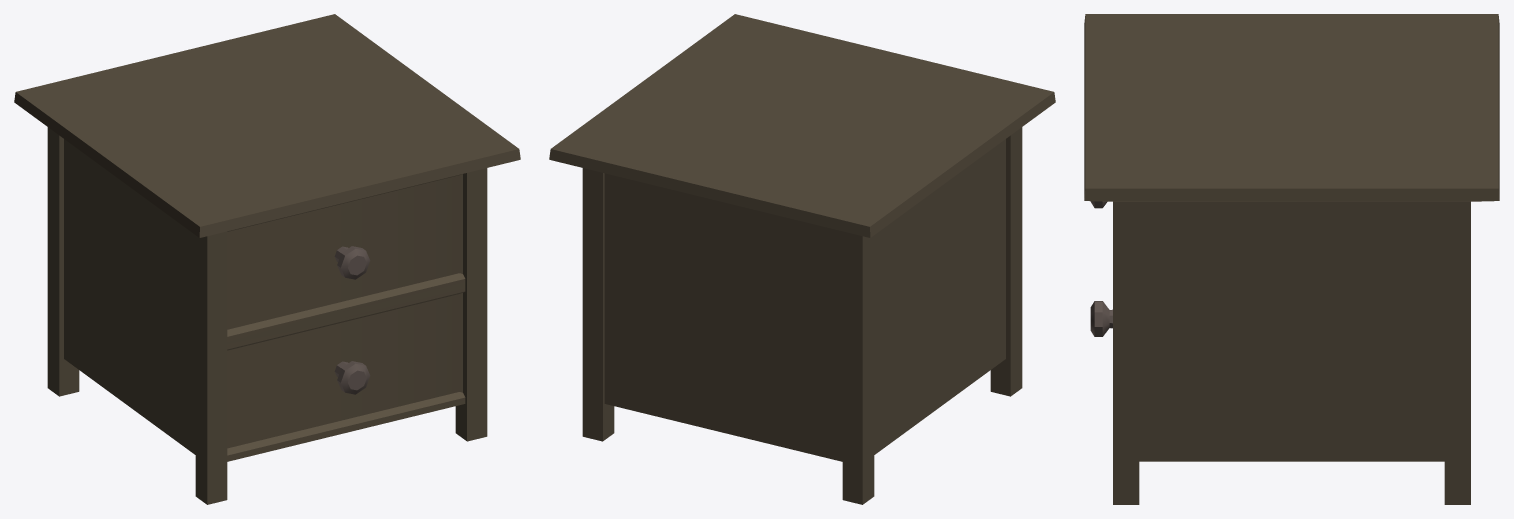
The model's file is quaternius-house-interior-night-stand-3.glb.
3 renders of one model, left to right at view 1: azimuth 30°, elevation 25°; view 2: azimuth 150°, elevation 25°; view 3: azimuth 270°, elevation 25°, orthographic. The views are drawn at different scales.
Visible parts, largest first — view 1: NightStand_3; view 2: NightStand_3; view 3: NightStand_3.
Part boxes in pixels (<box>): NightStand_3: <box>14,14,520,504</box>; NightStand_3: <box>549,14,1055,504</box>; NightStand_3: <box>1084,14,1499,504</box>.
Bounding box in the file's own units: 0.9522 × 0.827 × 0.9522.
